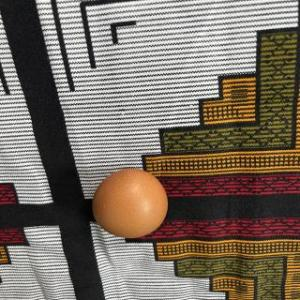egg: (90, 165, 170, 241)
